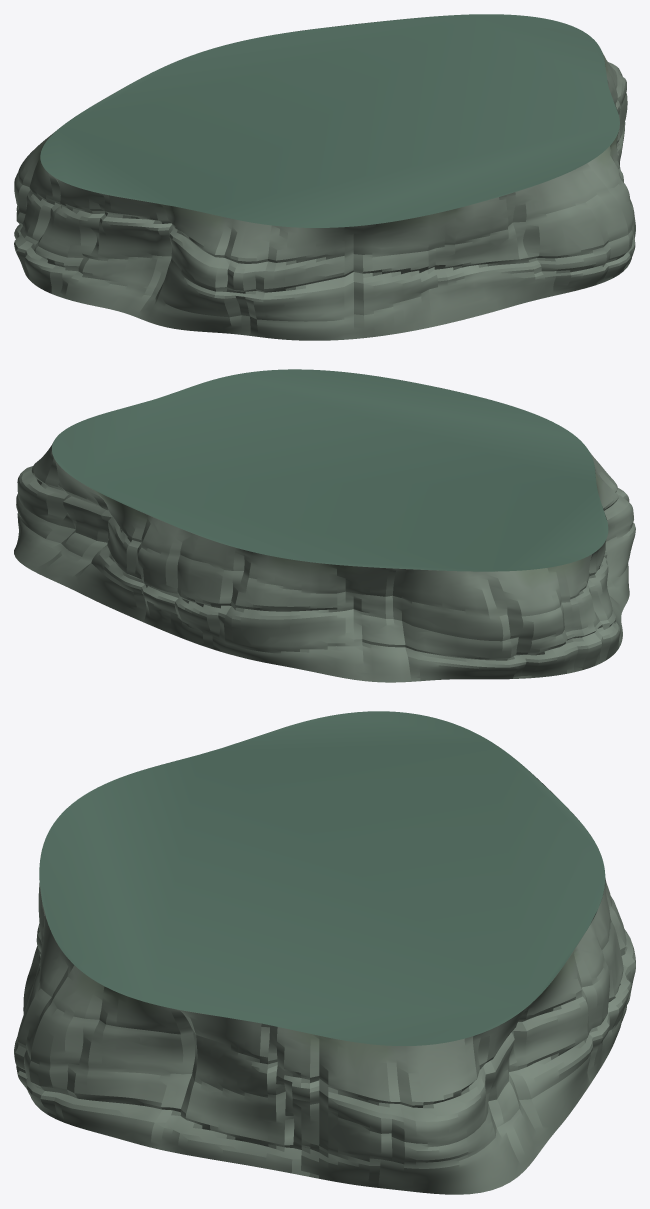
File: coast_atelier_2.glb
3 renders of one model, top to bottom at view 1: azimuth 30°, elevation 25°; view 2: azimuth 150°, elevation 25°; view 3: azimuth 270°, elevation 25°, orthographic. The views are drawn at different scales.
Parts seen in each view (by area): view 1: Mossed ruin bank; view 2: Mossed ruin bank; view 3: Mossed ruin bank.
Boxes of the visible parts, x1,y1,x2,y2 form: Mossed ruin bank: (14, 14, 635, 340); Mossed ruin bank: (14, 369, 635, 682); Mossed ruin bank: (14, 711, 635, 1194).
Bounding box in the file's own units: 29.07 × 4.89 × 20.57.
